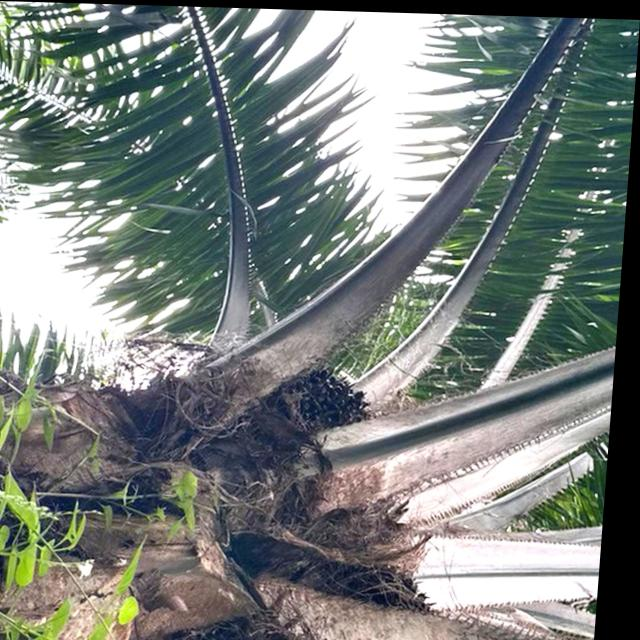unripe: (267, 353, 383, 444)
